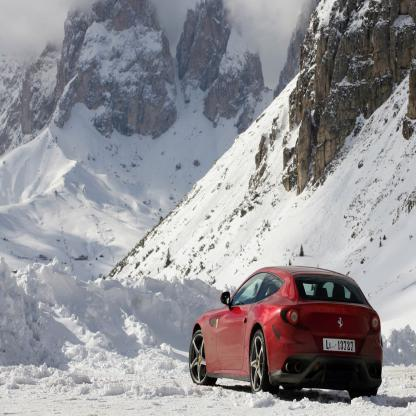Vehicle: (189, 262, 383, 393)
